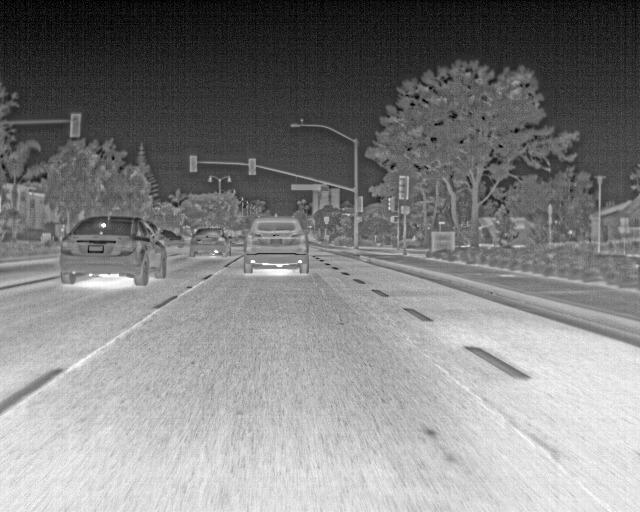car: (59, 215, 168, 286), (240, 217, 310, 274), (189, 228, 232, 259), (157, 230, 185, 248)
light: (399, 176, 407, 200), (72, 115, 79, 136), (248, 158, 256, 175), (190, 156, 197, 172), (357, 198, 362, 212), (388, 198, 392, 210), (357, 217, 362, 223), (390, 216, 394, 223)
sign: (291, 184, 321, 191), (401, 206, 410, 214), (618, 227, 630, 233), (620, 218, 628, 226), (324, 217, 329, 222), (325, 222, 329, 224)
